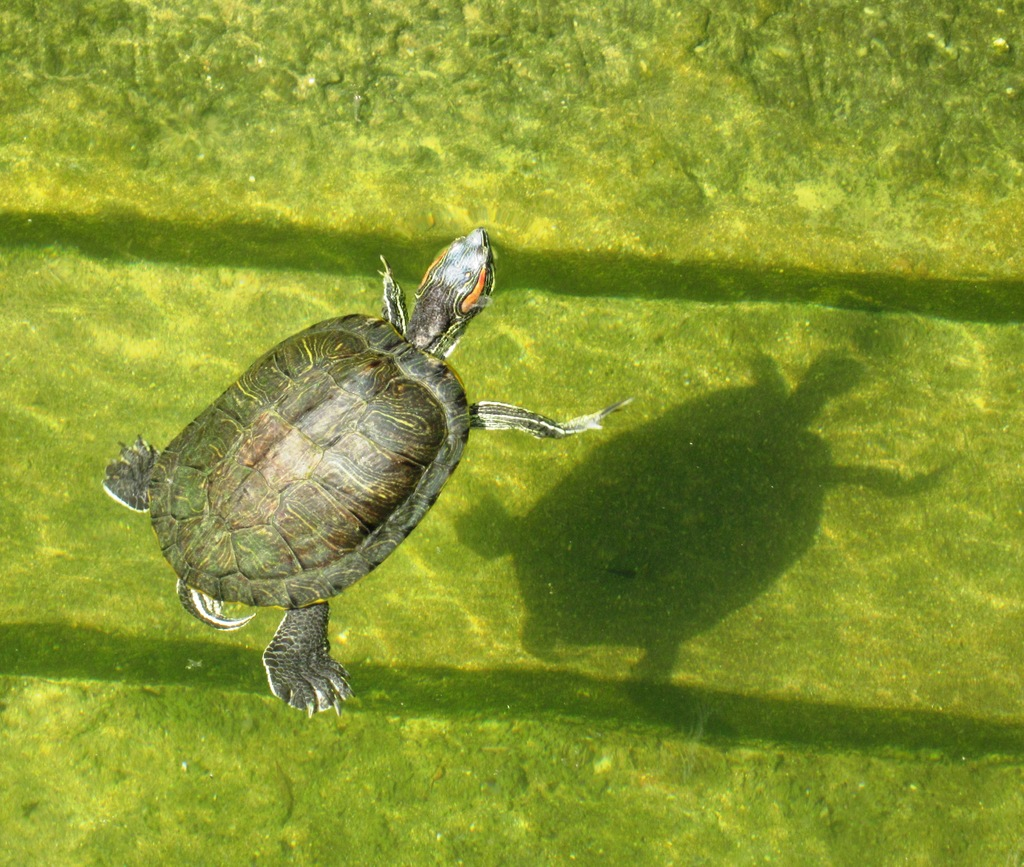Sea turtles: (97, 229, 639, 721)
